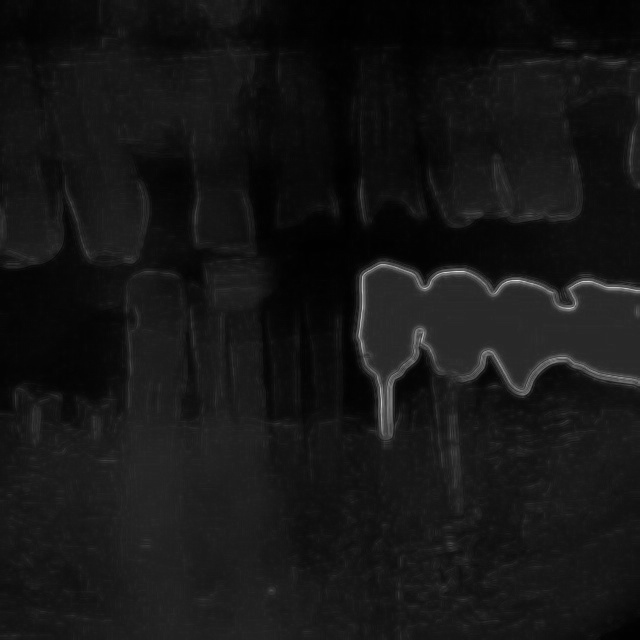Class 0- No endodontic treatment: (409, 259, 512, 542)
Class 2- incomplete endodontic treatment: (324, 242, 428, 538), (10, 357, 124, 482)
